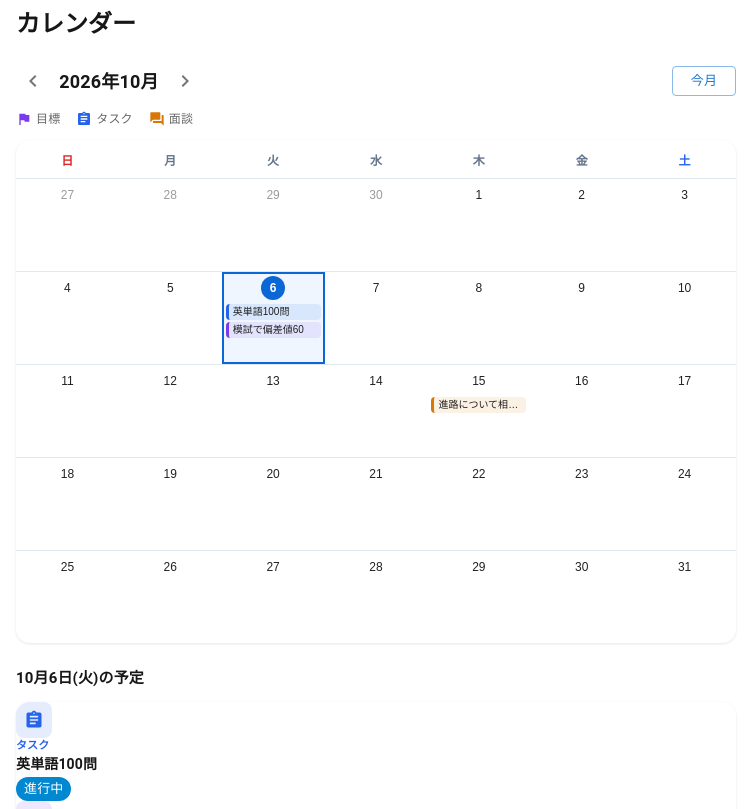
Test: CalendarPresenter › 予定がない日は「予定はありません」と表示される
The width and height of the screenshot is (753, 809).
Click the button named "10月7日 予定なし" at (376, 318), box [325,272,428,364]
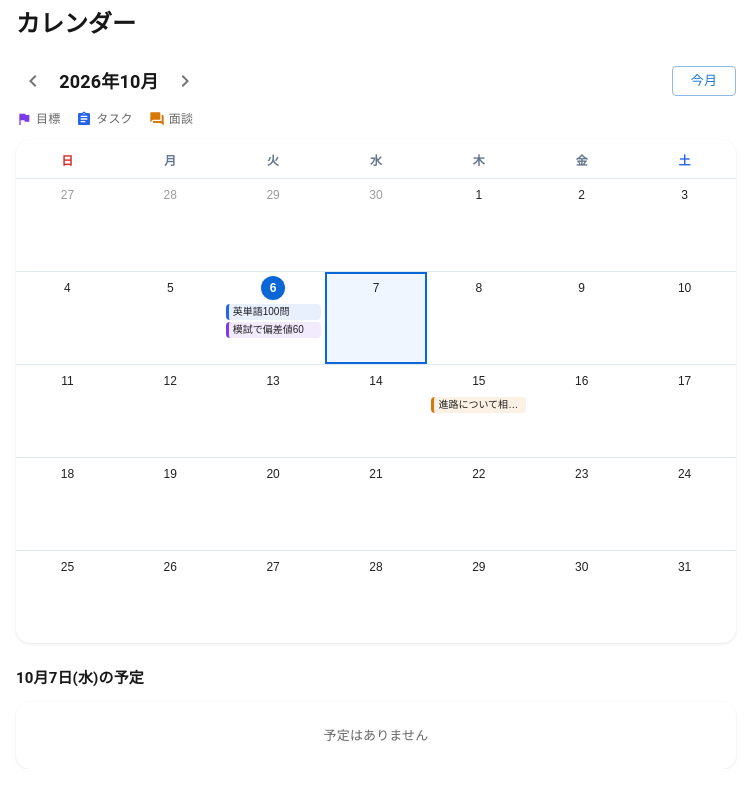
Now the text "予定はありません" is shown, box [324,726,428,742]
